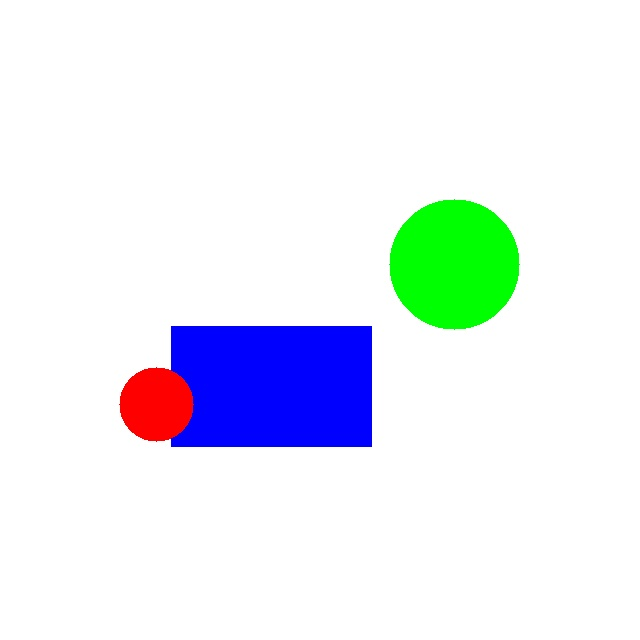cartao: (171, 326, 371, 446)
rosca_externa: (389, 199, 519, 329)
rosca_interna: (119, 367, 193, 441)
